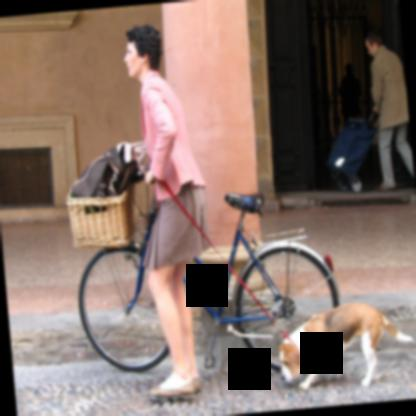backpack: (70, 143, 149, 199)
handbag: (70, 141, 144, 199)
suitcase: (323, 113, 378, 195)
